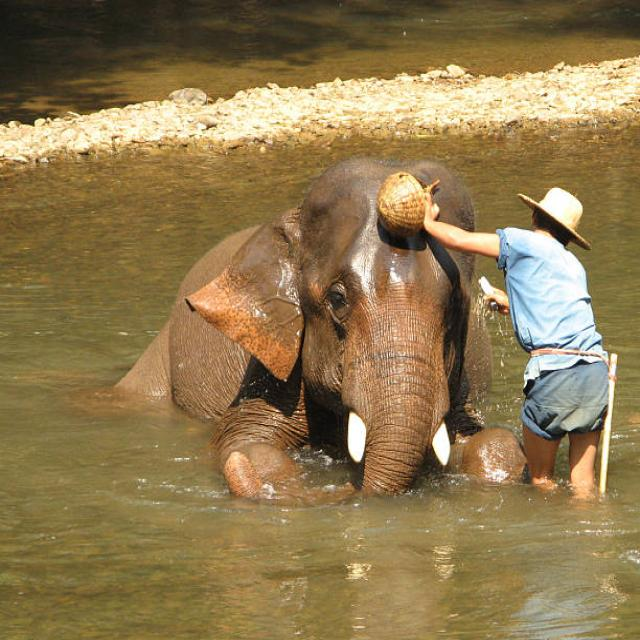Elephant: (86, 138, 636, 516)
